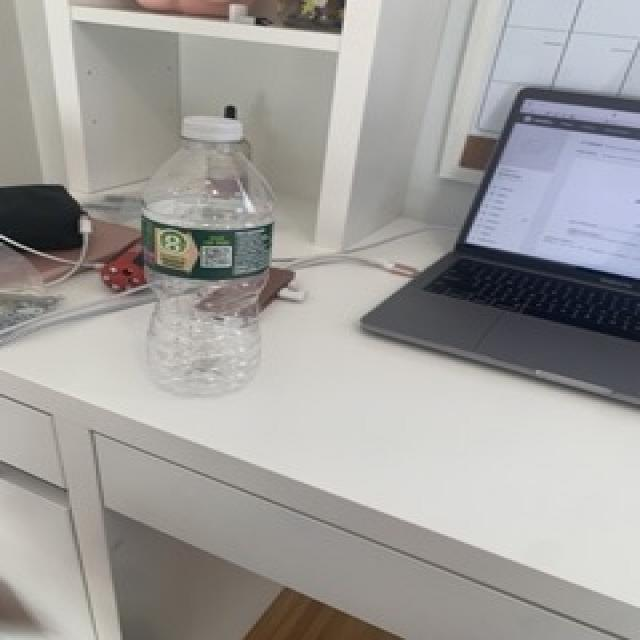water_bottle: (133, 112, 279, 397)
